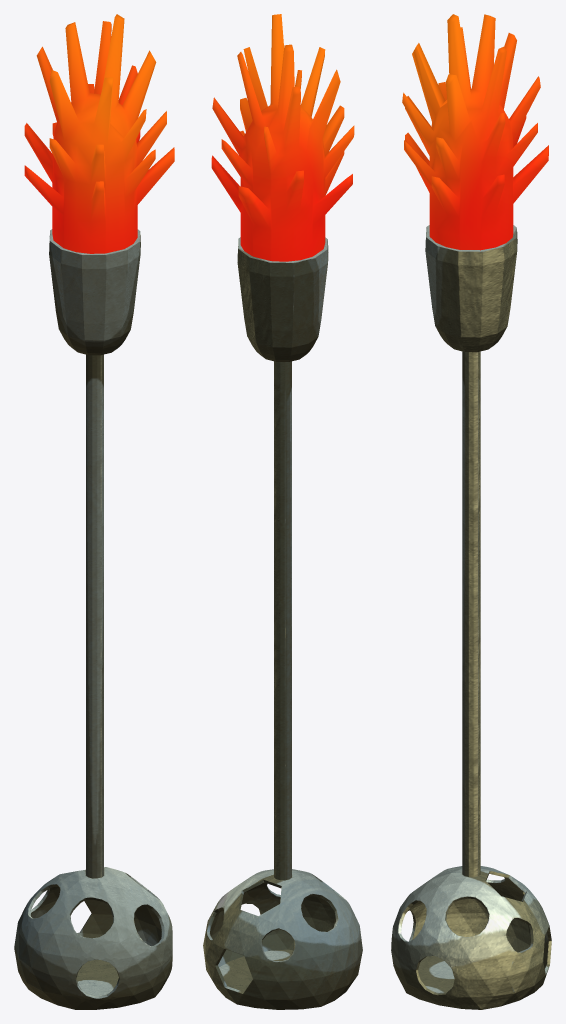
File: ThornyLamp.glb
3 views of the same model, side by side, from view 1: azimuth 30°, elevation 25°; view 2: azimuth 150°, elevation 25°; view 3: azimuth 270°, elevation 25° (orthographic).
Parts seen in each view (by area): view 1: 路灯GLTF有条纹, Icosphere.004; view 2: 路灯GLTF有条纹, Icosphere.004; view 3: 路灯GLTF有条纹, Icosphere.004.
Part boxes in pixels (x1,y1,x2,y2): 路灯GLTF有条纹: (14, 229, 172, 1009); Icosphere.004: (24, 14, 174, 253); 路灯GLTF有条纹: (203, 237, 362, 1009); Icosphere.004: (211, 14, 354, 261); 路灯GLTF有条纹: (391, 225, 551, 1009); Icosphere.004: (402, 14, 548, 250).
Size of what is drawn, in the model's own units: 0.8716 by 5.81 by 0.8716.
Materials: 2 (2 with a texture image).
